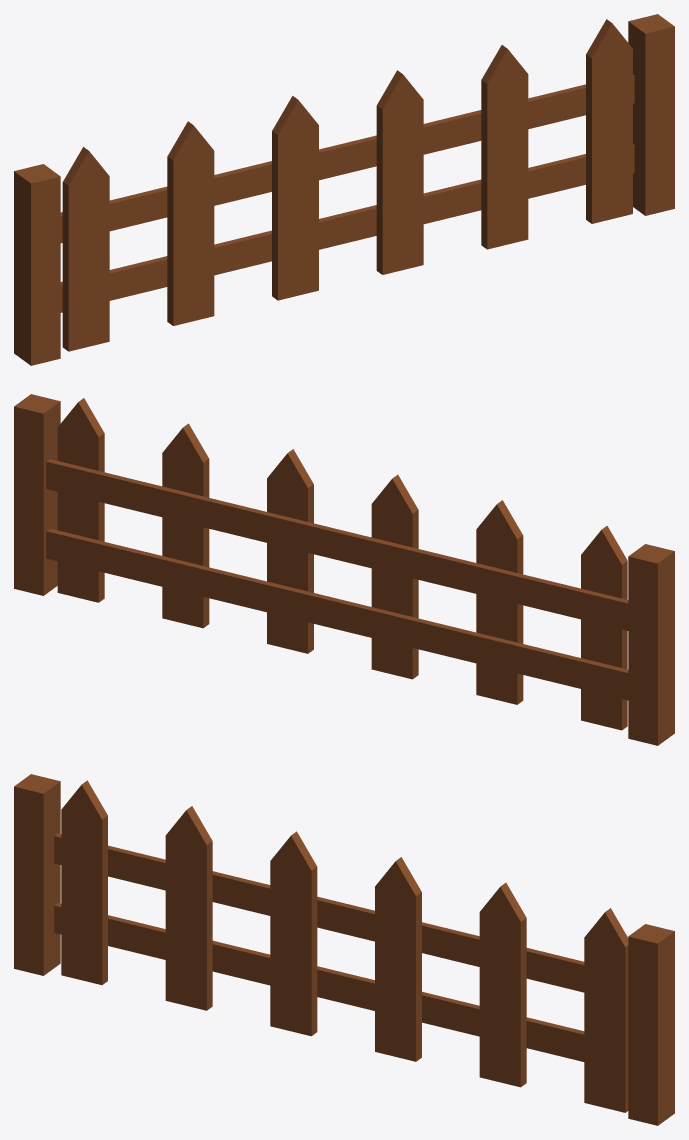
Rendered from Fence Tile_1.fbx.
3 views of the same model, one above another, from view 1: azimuth 30°, elevation 25°; view 2: azimuth 150°, elevation 25°; view 3: azimuth 330°, elevation 25° (orthographic).
Visible parts, largest first — view 1: Fence Tile_1; view 2: Fence Tile_1; view 3: Fence Tile_1.
Boxes of the visible parts, x1=… form: Fence Tile_1: x1=14, y1=14, x2=674, y2=365; Fence Tile_1: x1=14, y1=394, x2=674, y2=745; Fence Tile_1: x1=14, y1=774, x2=674, y2=1125.
Size of the model in its own units: 354 by 103 by 16.28.
